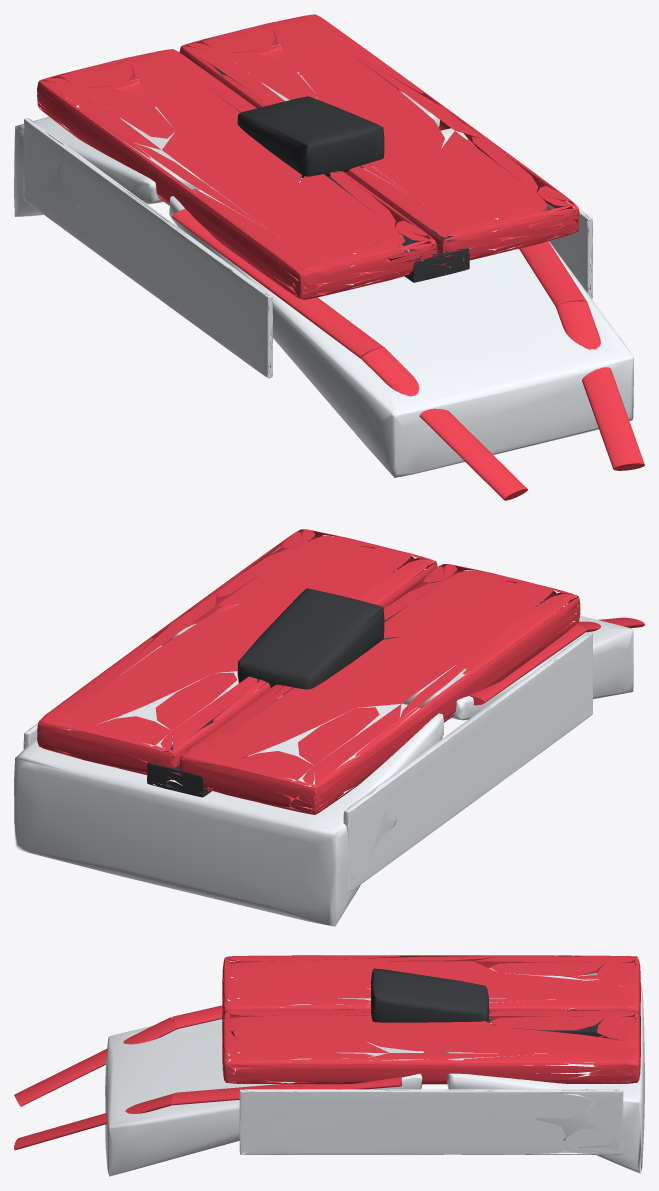
Rendered from hypercar_roof_canopy.glb.
The picture shows the model from 3 angles, top to bottom: view 1: azimuth 30°, elevation 25°; view 2: azimuth 150°, elevation 25°; view 3: azimuth 270°, elevation 25°; orthographic projection. The views are drawn at different scales.
Parts seen in each view (by area): view 1: Hypercar_Roof_Canopy; view 2: Hypercar_Roof_Canopy; view 3: Hypercar_Roof_Canopy.
Part boxes in pixels (x1=…): Hypercar_Roof_Canopy: x1=14, y1=14, x2=644, y2=500; Hypercar_Roof_Canopy: x1=14, y1=529, x2=644, y2=926; Hypercar_Roof_Canopy: x1=14, y1=955, x2=644, y2=1176.
Size of the model in its own units: 0.9142 by 0.5131 by 1.95.
